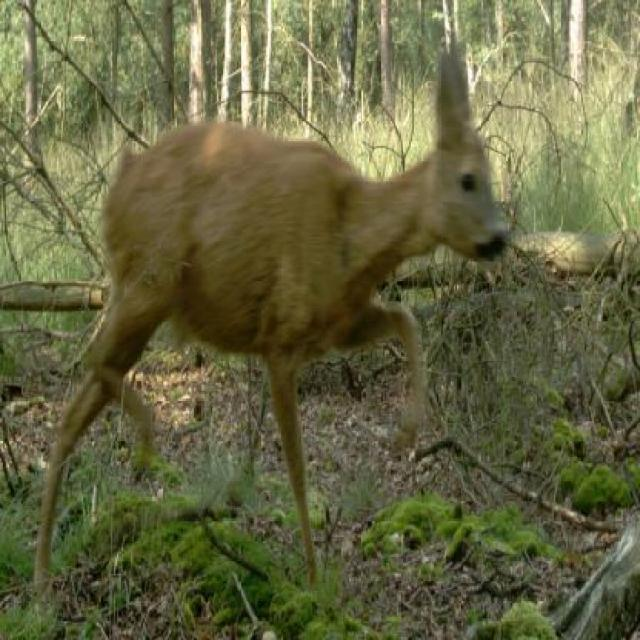Deer: (67, 78, 502, 557)
